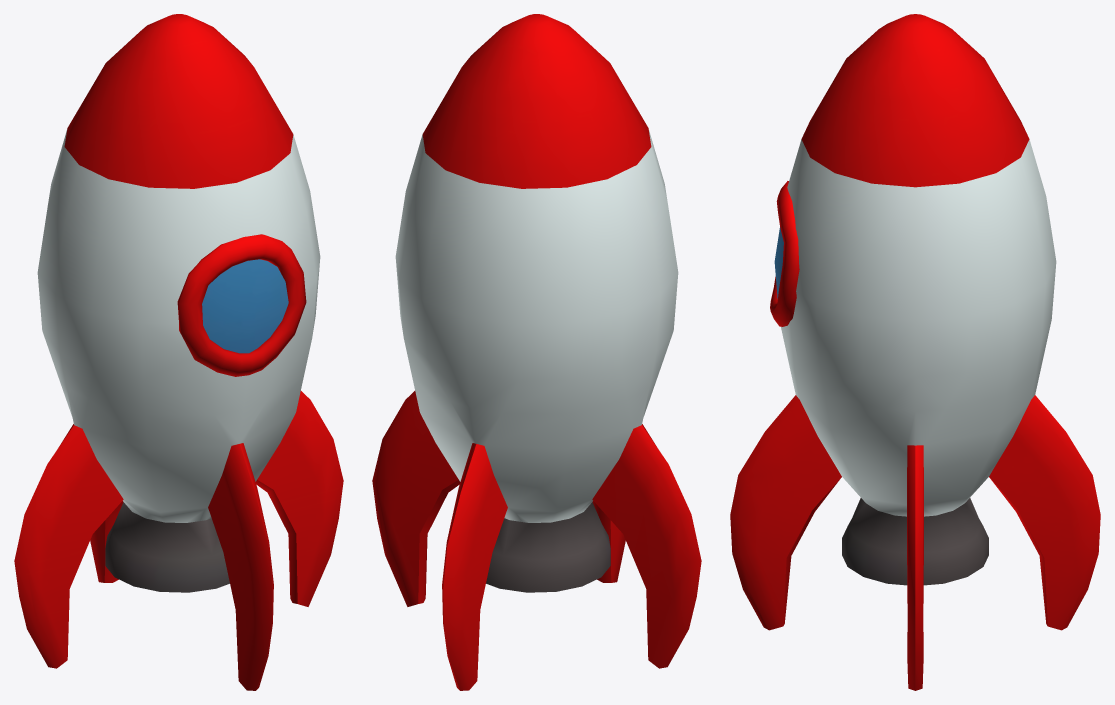
The model's file is Rocket_2.fbx.
3 renders of one model, left to right at view 1: azimuth 30°, elevation 25°; view 2: azimuth 150°, elevation 25°; view 3: azimuth 270°, elevation 25°, orthographic.
Parts seen in each view (by area): view 1: Rocket_2; view 2: Rocket_2; view 3: Rocket_2.
Boxes of the visible parts, x1,y1,x2,y2 form: Rocket_2: [14, 14, 343, 690]; Rocket_2: [372, 14, 701, 690]; Rocket_2: [730, 14, 1100, 690].
Bounding box in the file's own units: 0.8102 × 1.45 × 0.799.
